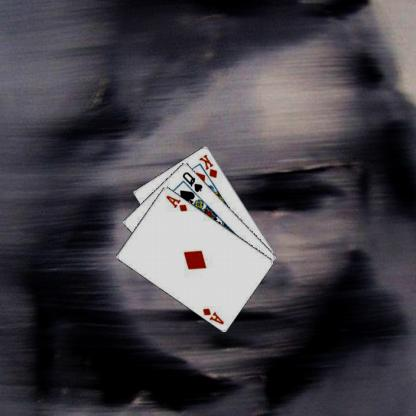AD: (202, 306, 227, 326), (165, 193, 190, 212)
KD: (198, 152, 220, 179)
QS: (182, 169, 206, 193)
